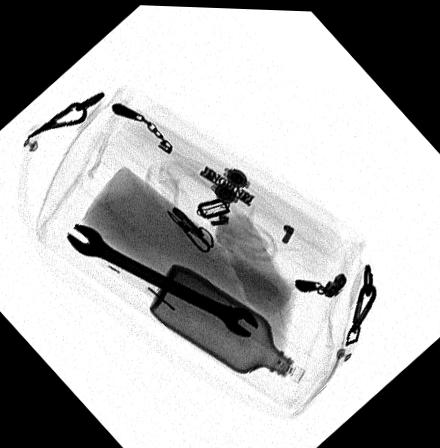Wrench: (64, 222, 260, 336)
